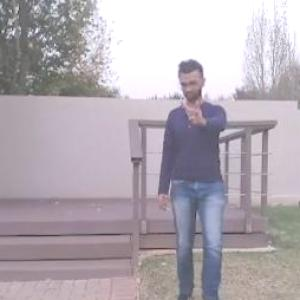takeoff-hand: (184, 93, 215, 130)
